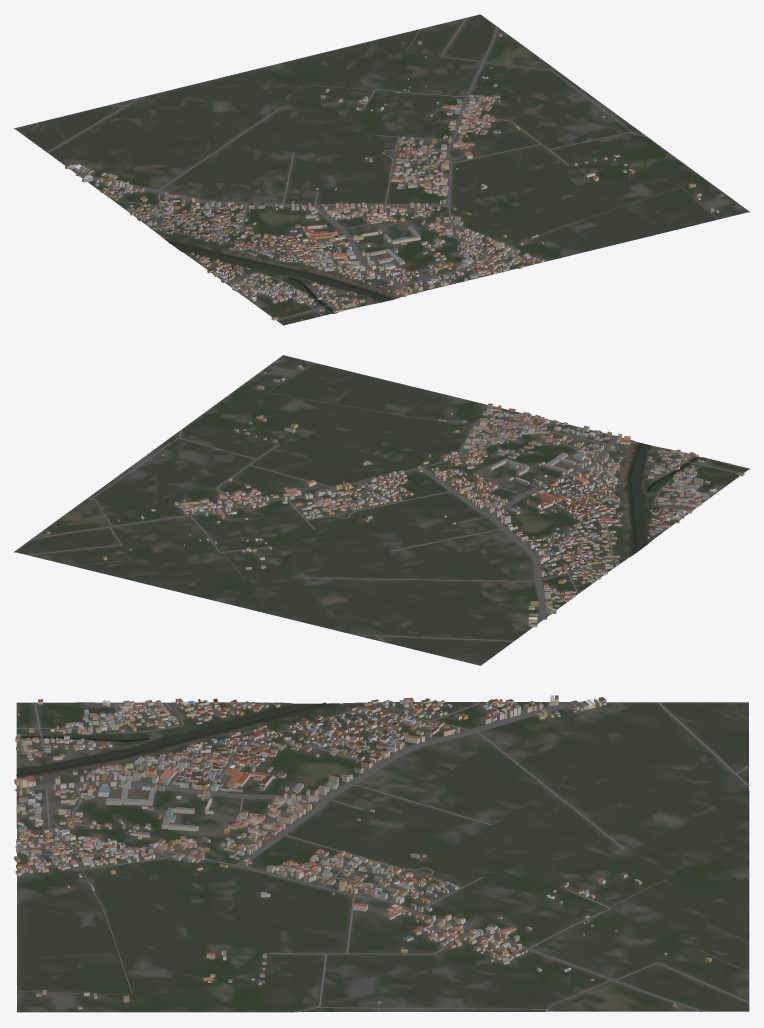
3 views of the same model, one above another, from view 1: azimuth 30°, elevation 25°; view 2: azimuth 150°, elevation 25°; view 3: azimuth 270°, elevation 25° (orthographic). The views are drawn at different scales.
Parts seen in each view (by area): view 1: ground, buildings, roads, water; view 2: ground, buildings, roads, water; view 3: ground, buildings, roads, water.
Part boxes in pixels (x1,y1,x2,y2): ground: (14, 14, 749, 325); buildings: (65, 33, 722, 320); roads: (47, 17, 717, 320); water: (165, 239, 394, 313); ground: (14, 355, 749, 665); buildings: (46, 365, 744, 627); roads: (27, 363, 742, 642); water: (624, 442, 699, 556); ground: (16, 702, 749, 1012); buildings: (14, 695, 711, 1009); roads: (15, 700, 749, 1012); water: (16, 702, 339, 777).
Bounding box in the file's own units: 1415 × 25.49 × 1409.
